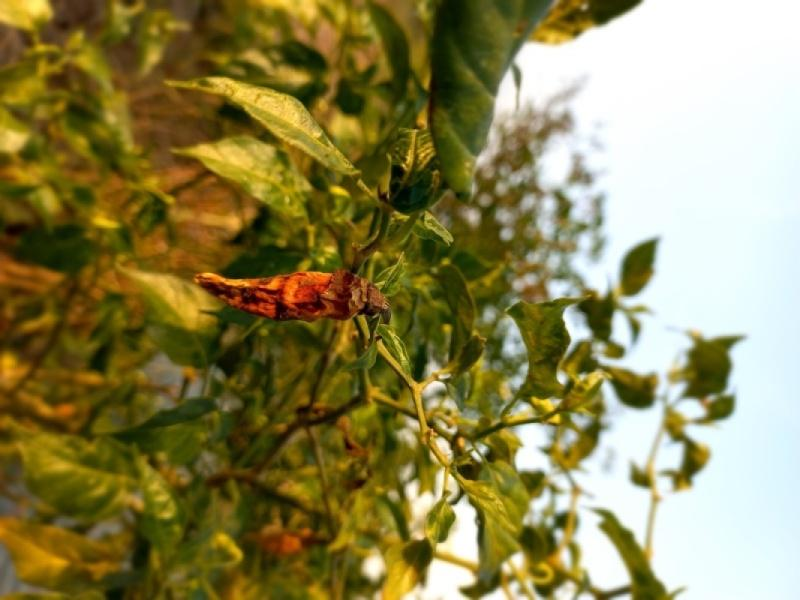antraknosa: (191, 260, 387, 330)
